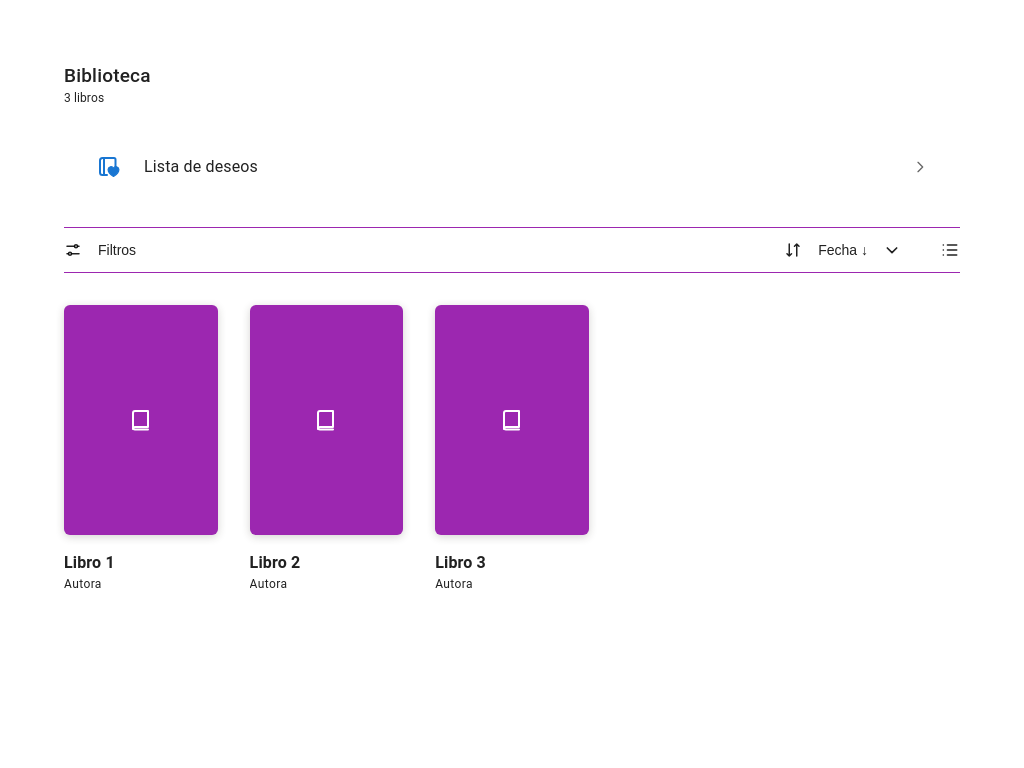
Given the library page with order and filters › When the user opens the filters › Then it shows favorites, every tag with its count and «Sin catalogar» in one sheet
The image size is (1024, 768).
Click the button "Filtros". click: click(100, 250)
box: x1=48 y1=228 x2=152 y2=272
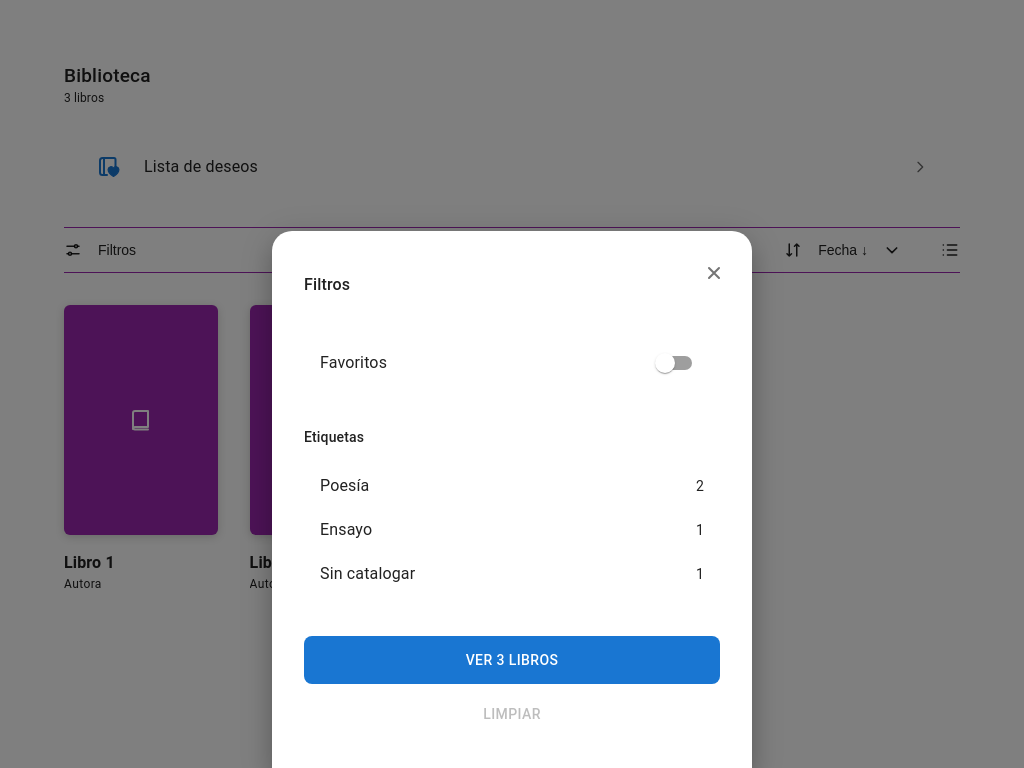
Now the switch labelled "Favoritos" is shown, box x1=320 y1=353 x2=692 y2=373
Now the button "Poesía 2" is shown, box x1=304 y1=464 x2=720 y2=508
Now the button "Ensayo 1" is shown, box x1=304 y1=508 x2=720 y2=552
